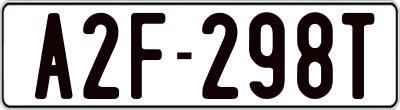2: (202, 12, 243, 103), (80, 10, 121, 97)
8: (297, 9, 338, 101)
9: (246, 12, 288, 102)
A: (32, 13, 72, 100)
F: (129, 13, 164, 103)
T: (340, 10, 378, 99)
